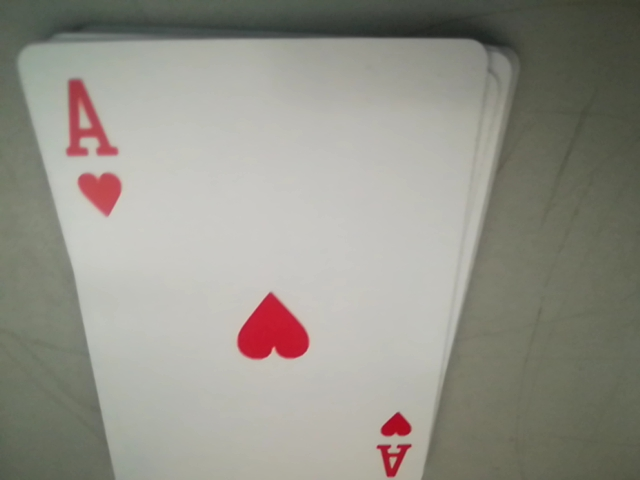hx a: (54, 79, 131, 222), (368, 410, 415, 479)
